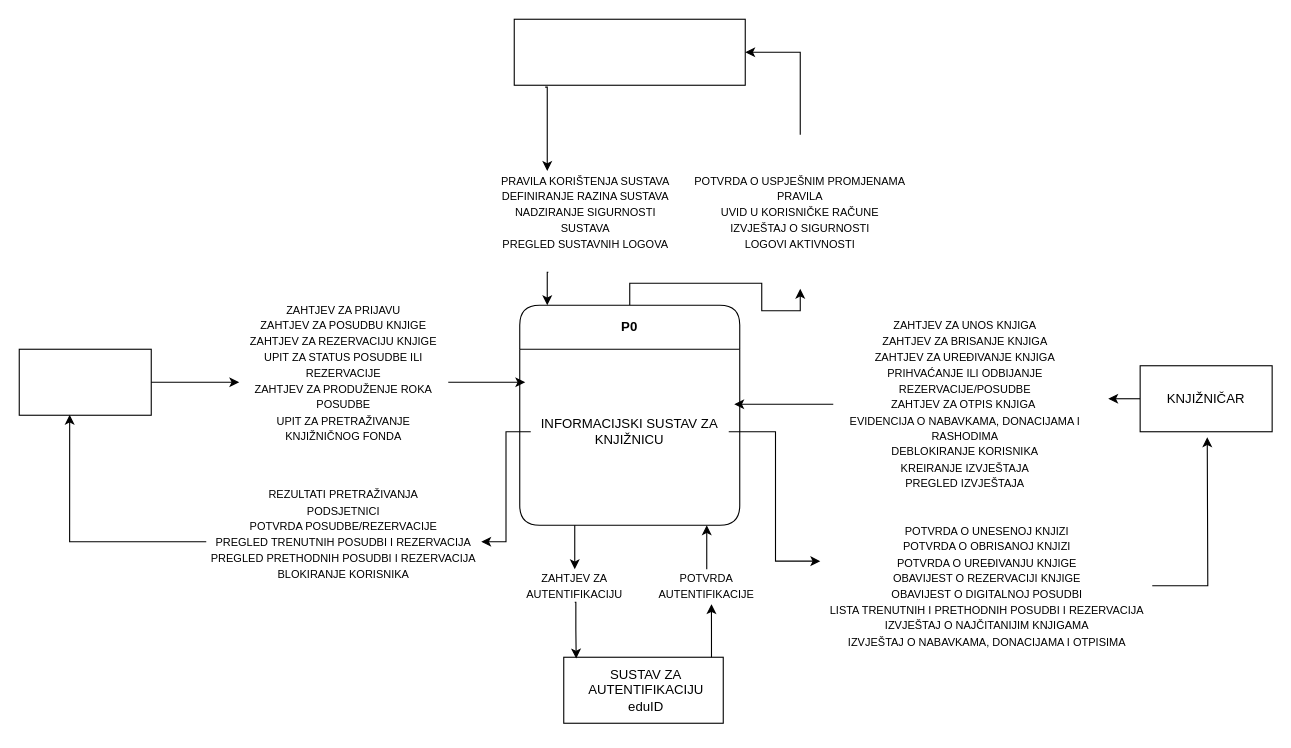
The diagram is 1291 pixels wide and 748 high, and some of its shapes have lost their labels. Here are the shapes that lost their labels. From the top down, the centre of each, then its label:
At point 629,51: "ADMINISTRATOR".
At point 84,381: "STUDENT".
